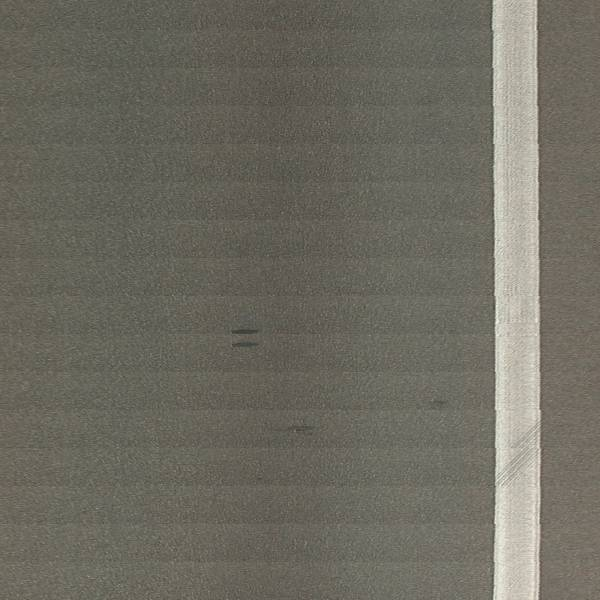road_damage: (269, 421, 320, 439), (230, 336, 262, 352)
